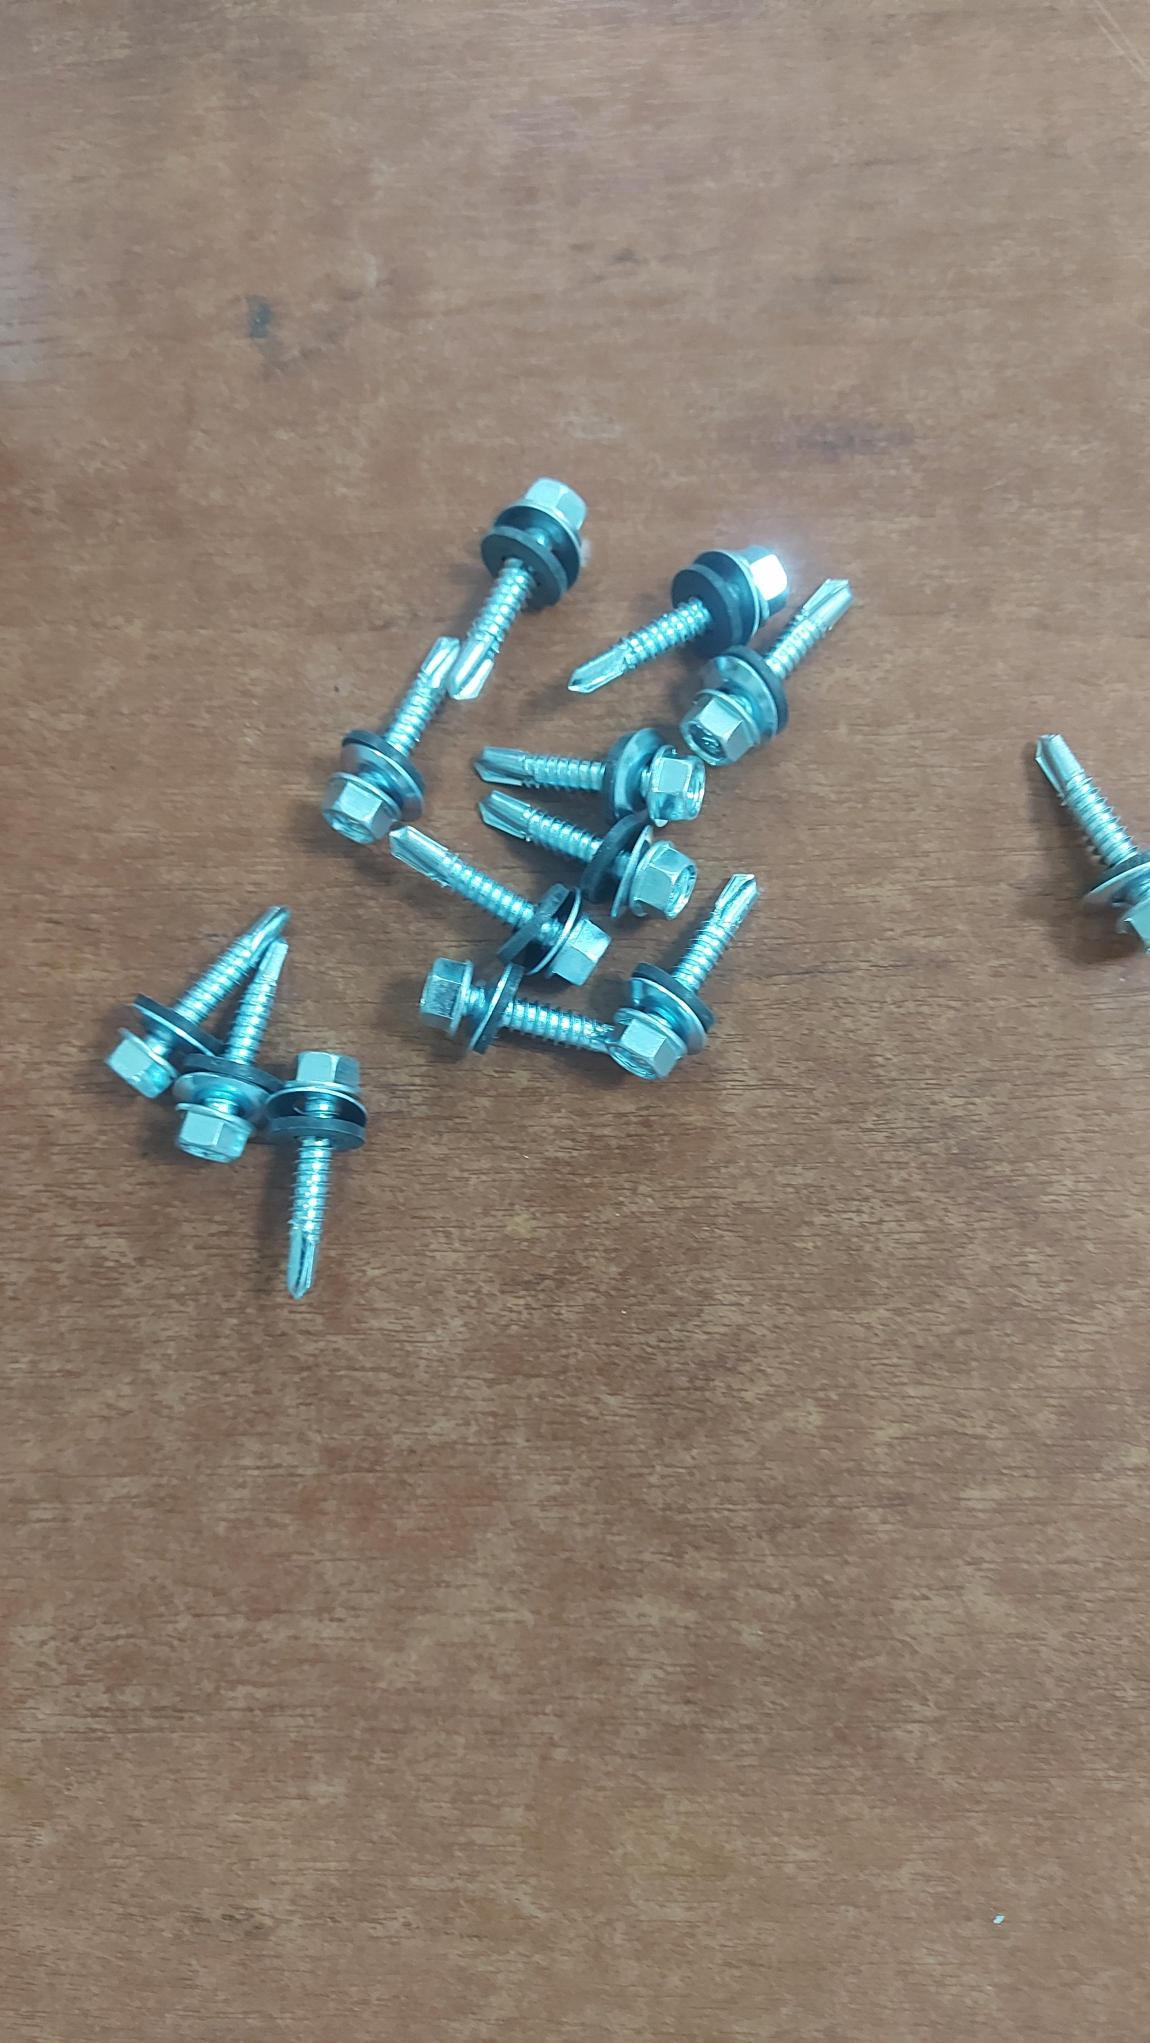Screw: (107, 906, 290, 1097), (388, 826, 609, 982), (680, 581, 853, 765), (569, 549, 785, 693), (609, 873, 757, 1079), (447, 478, 585, 699), (323, 637, 459, 843), (480, 790, 696, 918), (265, 1051, 366, 1298), (175, 940, 287, 1162), (1036, 734, 1149, 949), (474, 727, 705, 825), (419, 958, 611, 1052)
